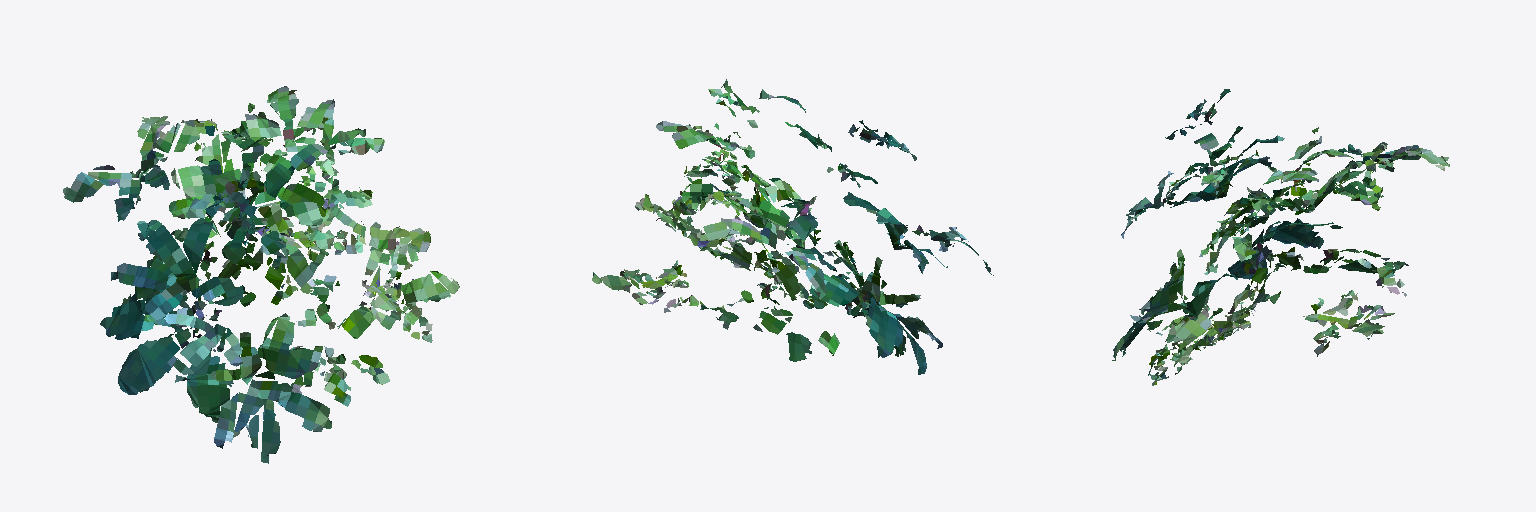
The picture shows the model from 3 angles: view 1: azimuth 30°, elevation 25°; view 2: azimuth 150°, elevation 25°; view 3: azimuth 270°, elevation 25°; orthographic projection.
Size of the model in its own units: 2.17 by 1.82 by 2.05.
1 materials, 1 textured.